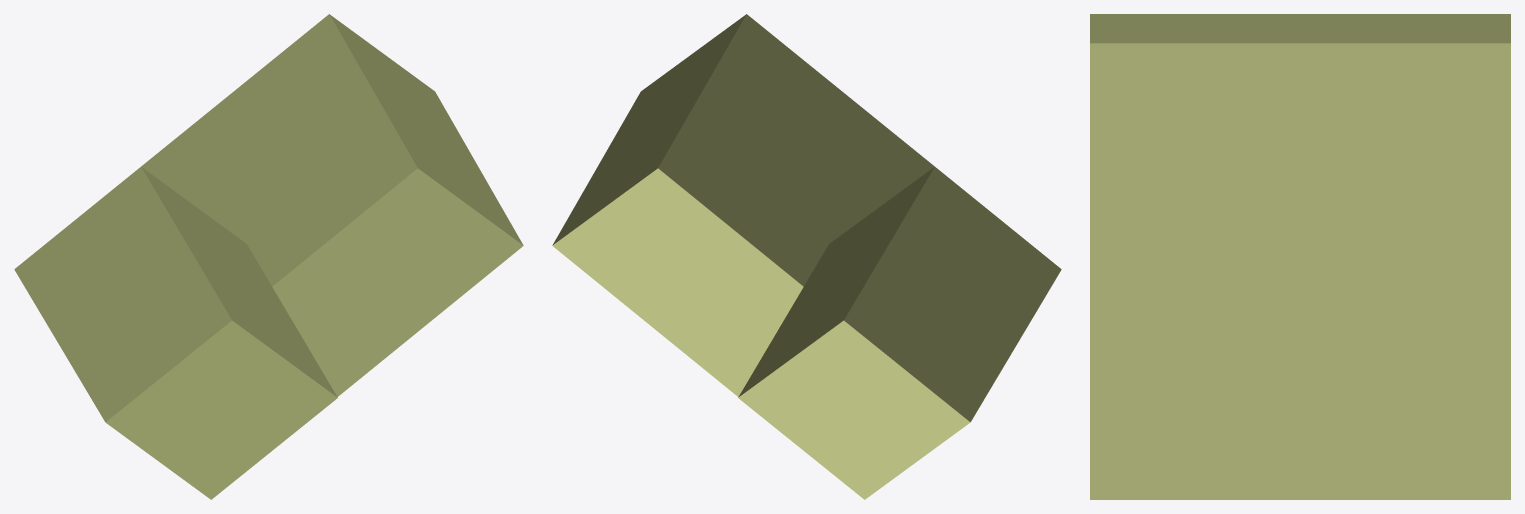
3 views of the same model, side by side, from view 1: azimuth 30°, elevation 25°; view 2: azimuth 150°, elevation 25°; view 3: azimuth 270°, elevation 25° (orthographic). The views are drawn at different scales.
Visible parts, largest first — view 1: 0_0_1_1_2_0_3_0_3; view 2: 0_0_1_1_2_0_3_0_3; view 3: 0_0_1_1_2_0_3_0_3.
Part boxes in pixels (x1=…): 0_0_1_1_2_0_3_0_3: x1=14, y1=14, x2=523, y2=499; 0_0_1_1_2_0_3_0_3: x1=552, y1=14, x2=1061, y2=499; 0_0_1_1_2_0_3_0_3: x1=1090, y1=14, x2=1510, y2=499.
Bounding box in the file's own units: 13.21 × 11.06 × 6.
